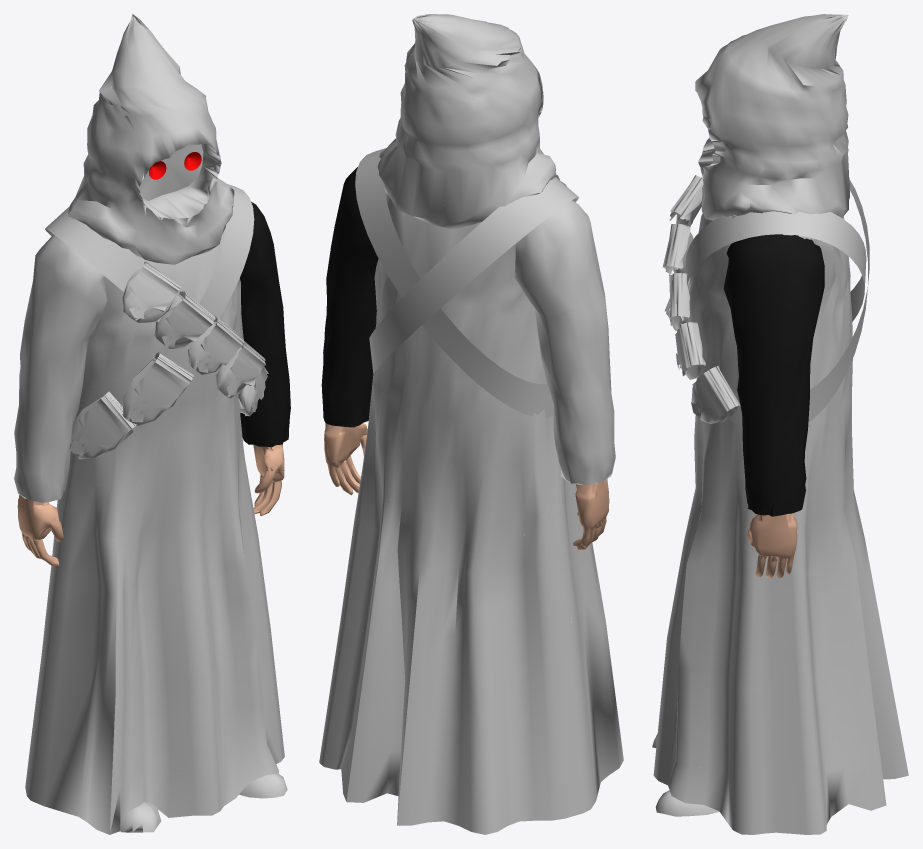
Rendered from Star_wars_JAWA.obj.
3 renders of one model, left to right at view 1: azimuth 30°, elevation 25°; view 2: azimuth 150°, elevation 25°; view 3: azimuth 270°, elevation 25°, orthographic. The views are drawn at different scales.
Parts seen in each view (by area): view 1: BROWN_CLOTH1, BROWN_CLOTH0, bandoliers, arm_r, arm_l, BLACKBLACKBLACK, hand_r, BROWN_LEATHER, hand_l, JAWA_EYES; view 2: BROWN_CLOTH1, BROWN_CLOTH0, arm_r, bandoliers, arm_l, hand_l, hand_r; view 3: BROWN_CLOTH1, BROWN_CLOTH0, arm_l, bandoliers, hand_l, BROWN_LEATHER, BLACKBLACKBLACK.
Boxes of the visible parts, x1,y1,x2,y2 form: BROWN_CLOTH1: [25, 228, 284, 834]; BROWN_CLOTH0: [68, 14, 234, 264]; bandoliers: [45, 184, 268, 459]; arm_r: [14, 234, 106, 502]; arm_l: [240, 201, 290, 447]; BLACKBLACKBLACK: [138, 144, 221, 218]; hand_r: [17, 494, 63, 565]; BROWN_LEATHER: [120, 773, 287, 832]; hand_l: [253, 444, 284, 515]; JAWA_EYES: [149, 152, 201, 179]; BROWN_CLOTH1: [319, 190, 623, 834]; BROWN_CLOTH0: [377, 14, 556, 229]; arm_r: [515, 200, 615, 485]; bandoliers: [355, 148, 578, 417]; arm_l: [321, 167, 378, 427]; hand_l: [324, 423, 367, 495]; hand_r: [573, 479, 609, 550]; BROWN_CLOTH1: [653, 213, 908, 834]; BROWN_CLOTH0: [695, 14, 849, 220]; arm_l: [723, 234, 824, 516]; bandoliers: [663, 175, 869, 428]; hand_l: [747, 513, 797, 578]; BROWN_LEATHER: [652, 734, 719, 816]; BLACKBLACKBLACK: [698, 127, 725, 167].
Bounding box in the file's own units: 18.39 × 48.16 × 14.55.
